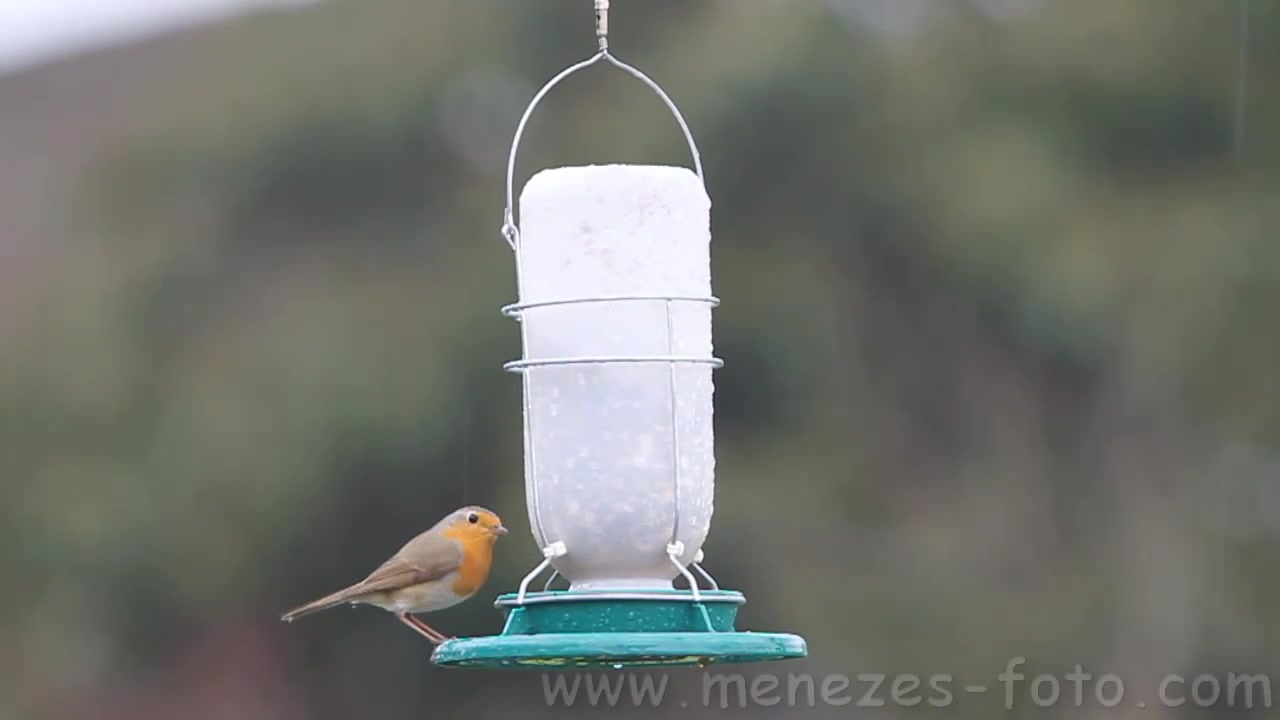bird: (282, 508, 510, 660)
